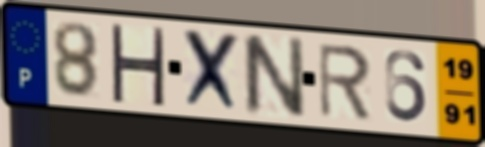6: (383, 48, 431, 126)
8: (50, 21, 103, 100)
H: (107, 21, 167, 109)
N: (239, 32, 308, 121)
R: (315, 41, 374, 123)
X: (181, 26, 244, 117)
